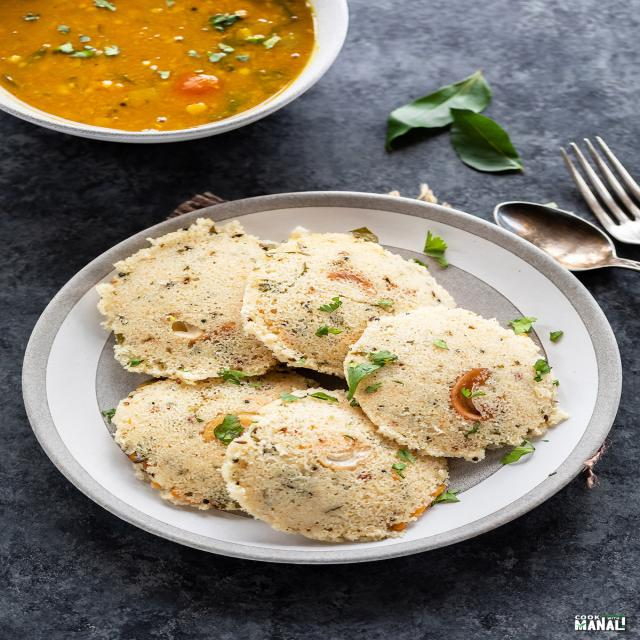IDLI: (338, 305, 564, 457), (219, 390, 445, 537), (119, 378, 327, 514), (106, 236, 277, 378), (257, 238, 436, 365)
